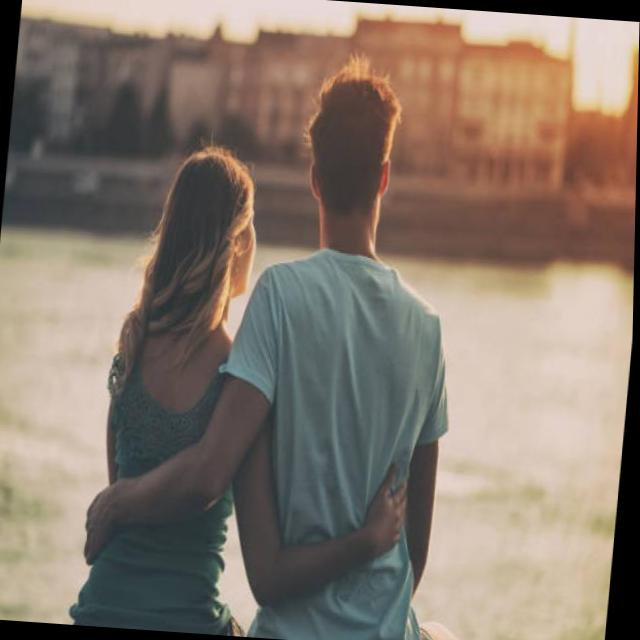no helmet: (133, 114, 282, 334), (282, 50, 413, 276)
